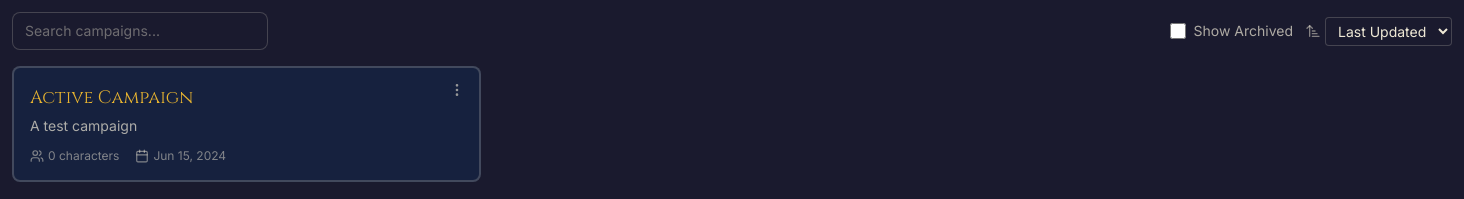
it: CampaignList › shows archived campaigns when toggled
Click the checkbox labelled "Show Archived" at [1178, 31], box 1170,23 -> 1186,39
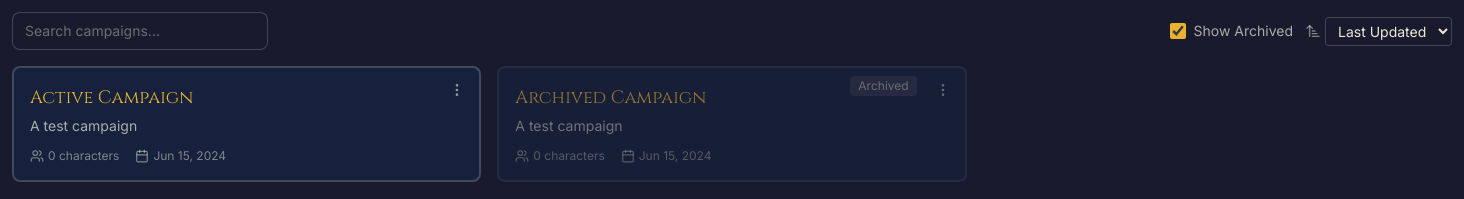
Expected: the heading "Archived Campaign" is shown, 515,85 -> 706,110
